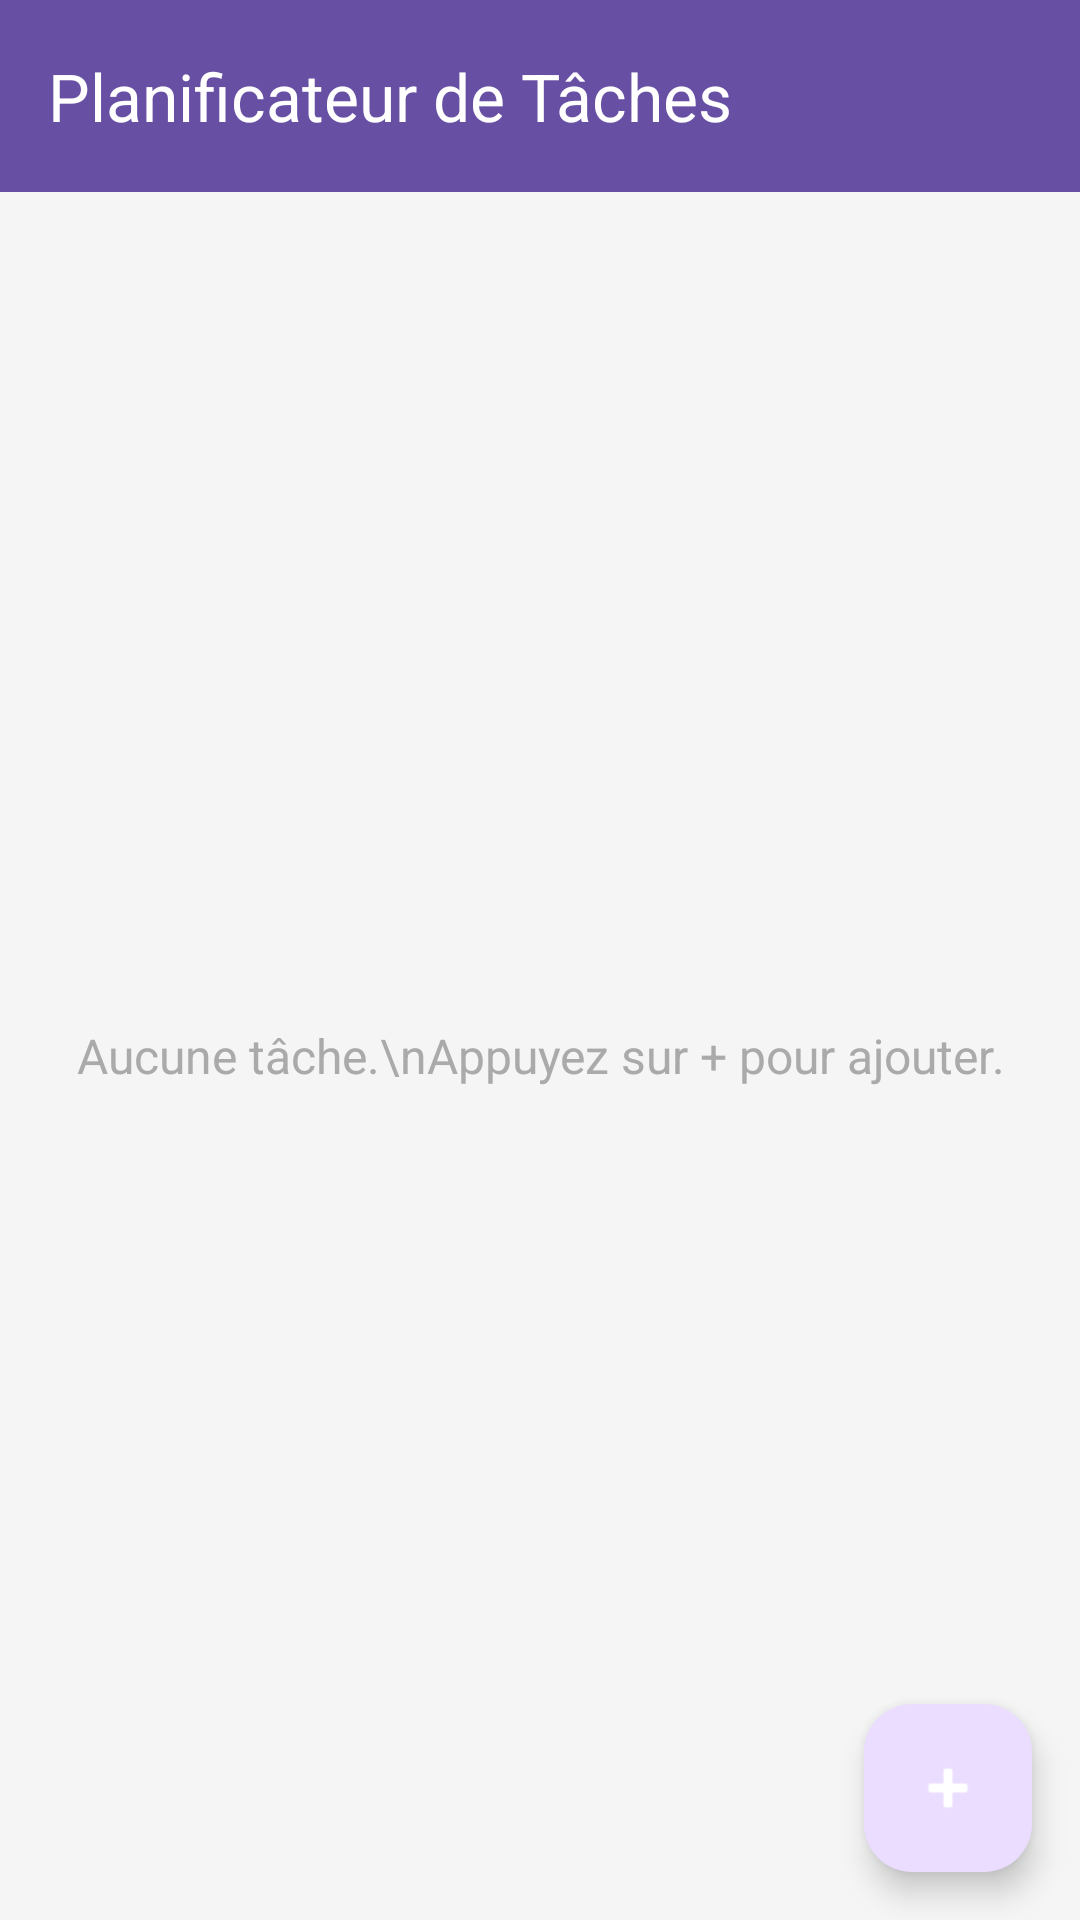

Where icons sit on this 1080×1920 app screen, as (left=x1, top=y1, right=x2, bottom=y2):
Ajouter une tâche: (left=864, top=1704, right=1032, bottom=1872)
